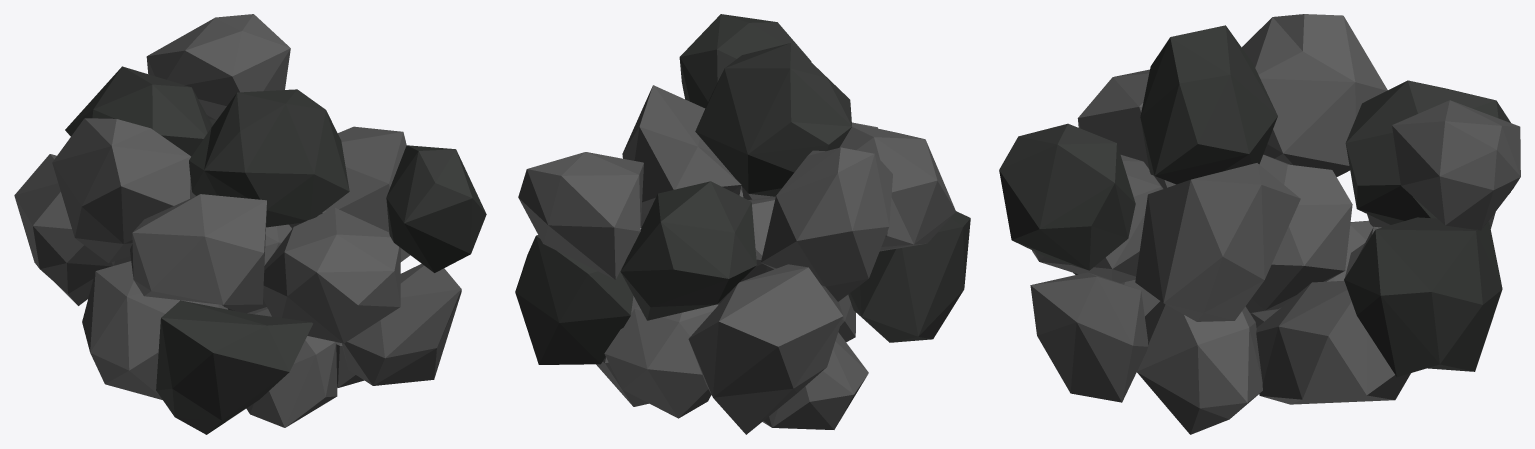
The model's file is rock-pile.fbx.
3 views of the same model, side by side, from view 1: azimuth 30°, elevation 25°; view 2: azimuth 150°, elevation 25°; view 3: azimuth 270°, elevation 25° (orthographic). The views are drawn at different scales.
Parts seen in each view (by area): view 1: rock-pile; view 2: rock-pile; view 3: rock-pile.
Boxes of the visible parts, x1,y1,x2,y2 form: rock-pile: [14, 14, 486, 434]; rock-pile: [515, 14, 970, 434]; rock-pile: [999, 14, 1520, 434].
Bounding box in the file's own units: 0.9535 × 0.94 × 1.31.
